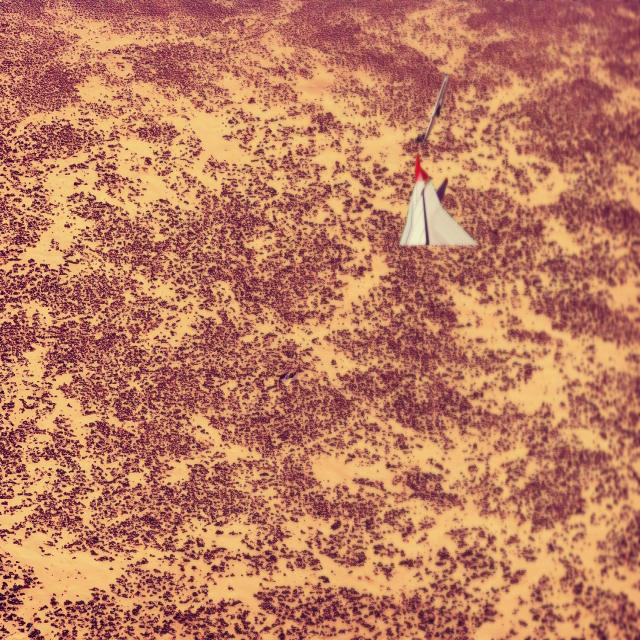airplane: (400, 76, 477, 244)
